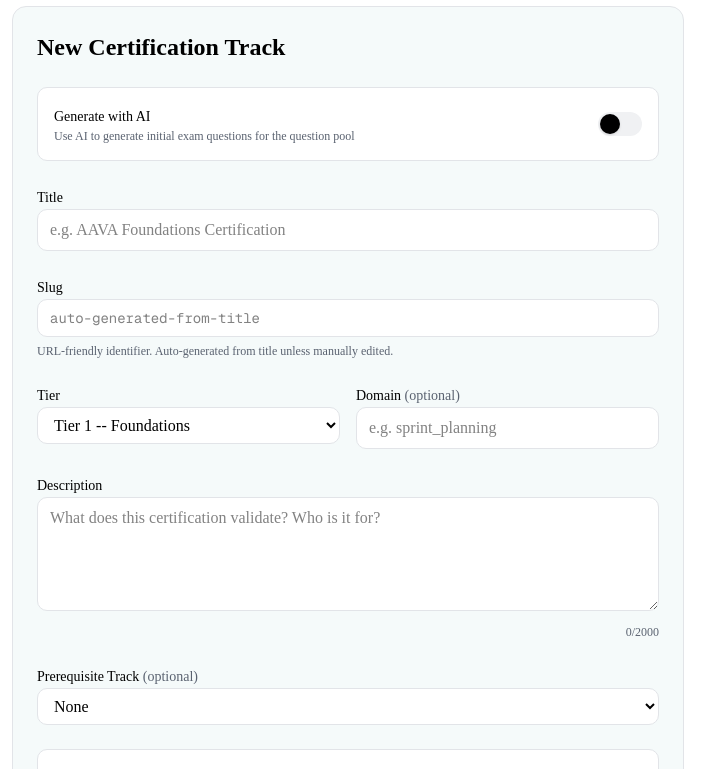
NewCertTrackPage › shows AI context panel when AI toggle is enabled
Click the switch with test id "ai-mode-toggle" at (620, 124), box [598,112,642,136]
(page scrolled)
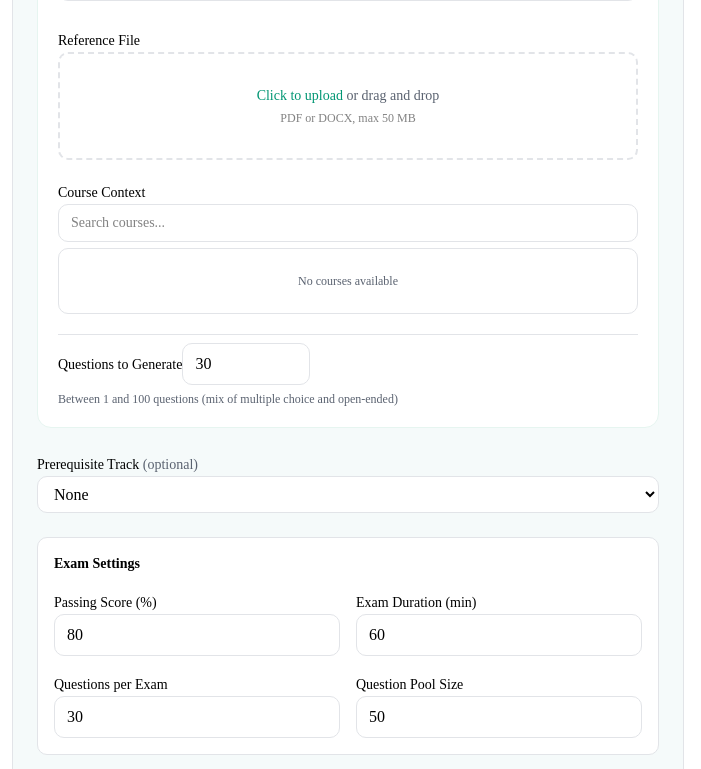
Check: the number field with test id "question-count-input" is shown, box [182,343,310,385]
